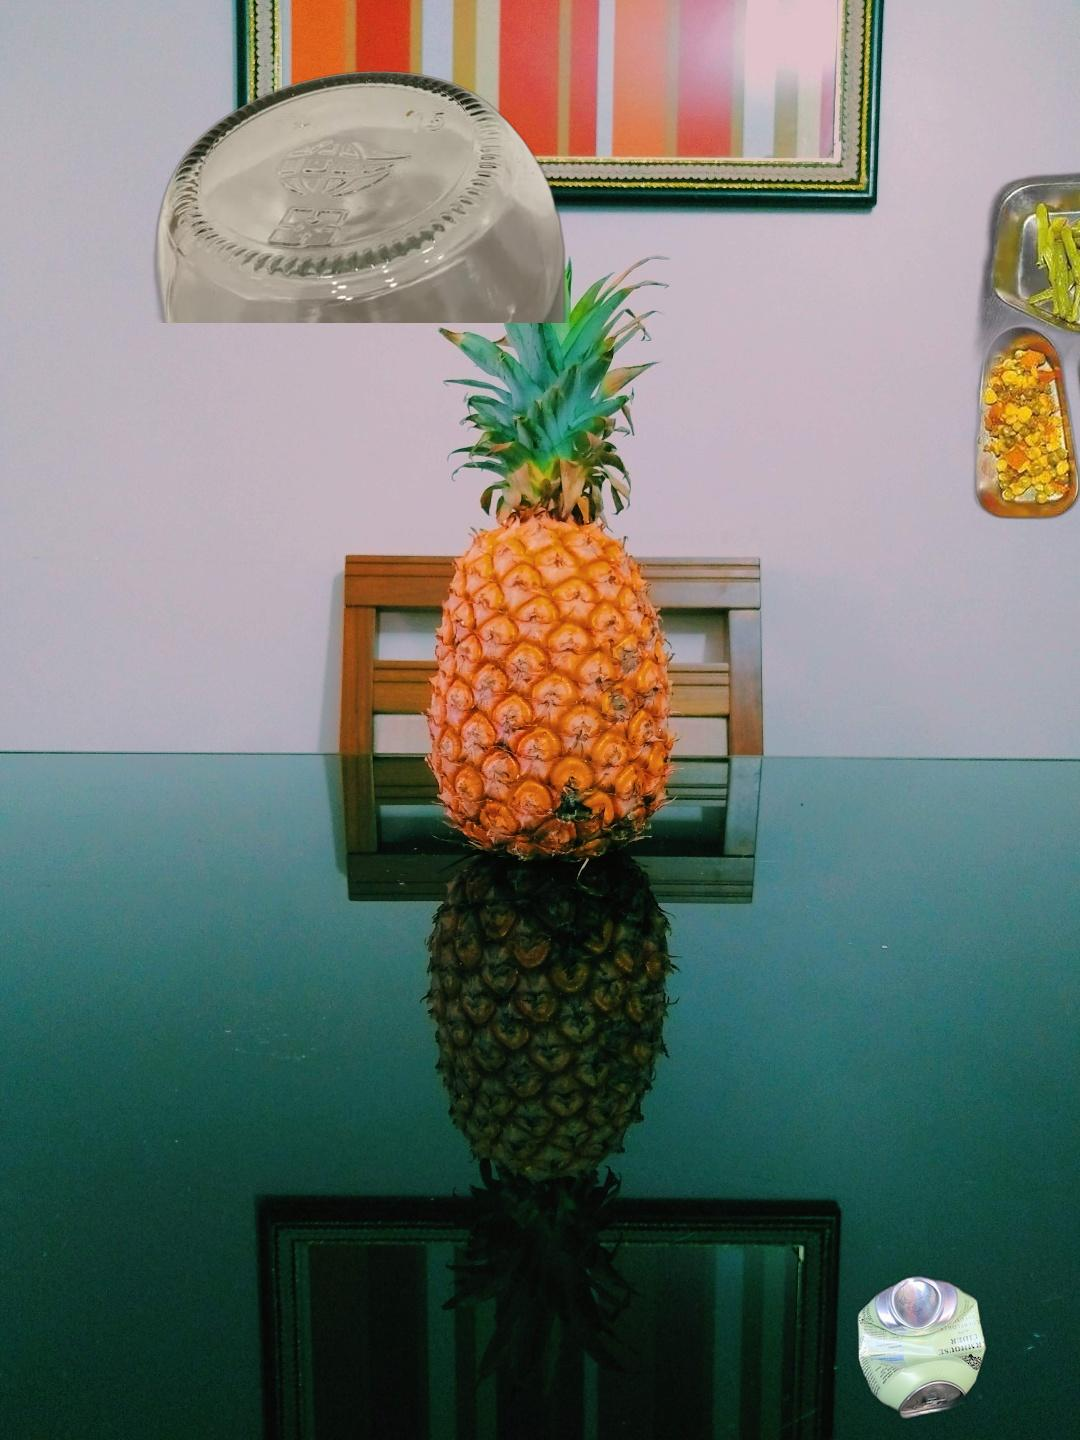biological: (959, 161, 1080, 548)
glass: (150, 68, 577, 323)
metal-cans: (853, 1271, 1080, 1425)
